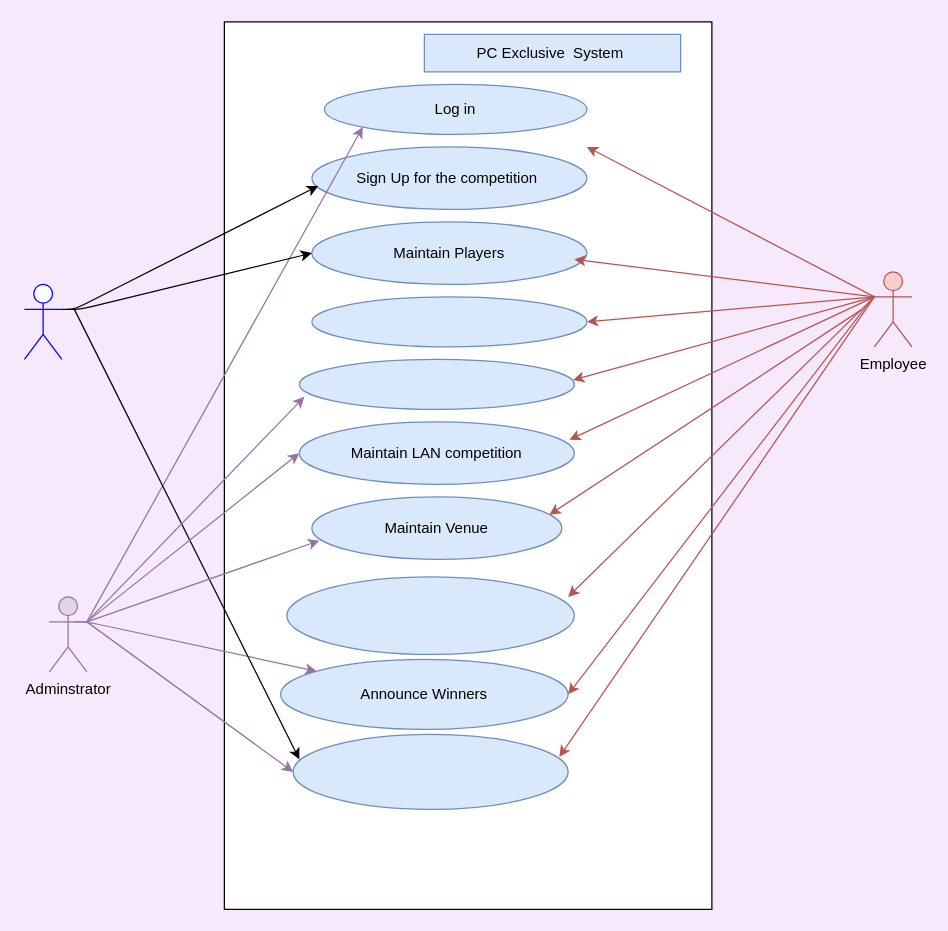
Some shapes in this 948 by 931 pixel diagram are drawn without their labels. The centre of each missing label's shape, as x and y in pixels:
"Maintain Game & Platform" belongs at (436,383).
"Maintain Teams" belongs at (449,321).
"Player" belongs at (42,321).
"Recording Scores" belongs at (430,615).
"Reporting" belongs at (430,771).
